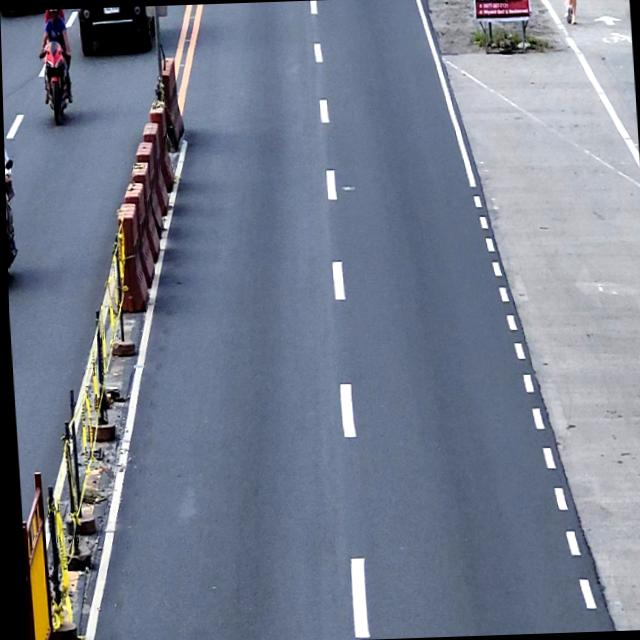Car: (79, 5, 158, 58)
License-Plate: (103, 7, 119, 14)
Motorcycle: (37, 38, 73, 127), (4, 158, 19, 281)
